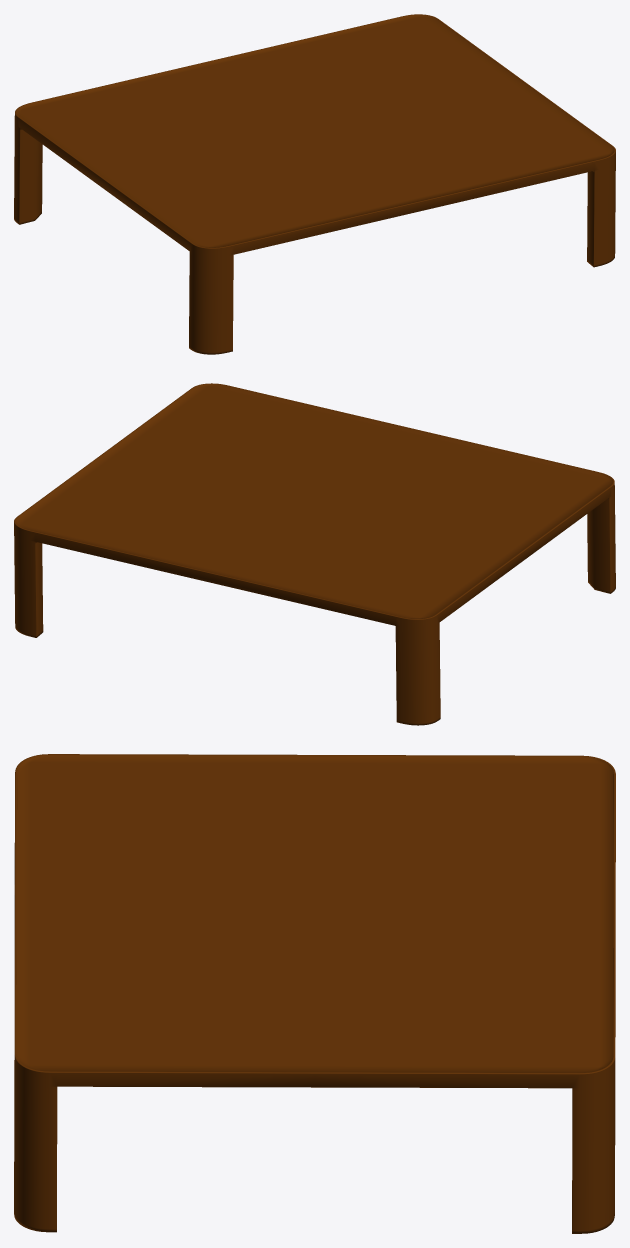
Rendered from table.gltf.
The picture shows the model from 3 angles, top to bottom: view 1: azimuth 30°, elevation 25°; view 2: azimuth 150°, elevation 25°; view 3: azimuth 270°, elevation 25°; orthographic projection. The views are drawn at different scales.
Visible parts, largest first — view 1: Cube; view 2: Cube; view 3: Cube.
Boxes of the visible parts, x1,y1,x2,y2 form: Cube: [14, 14, 615, 354]; Cube: [14, 383, 615, 725]; Cube: [14, 754, 615, 1233].
Bounding box in the file's own units: 3.88 × 0.979 × 3.16.
